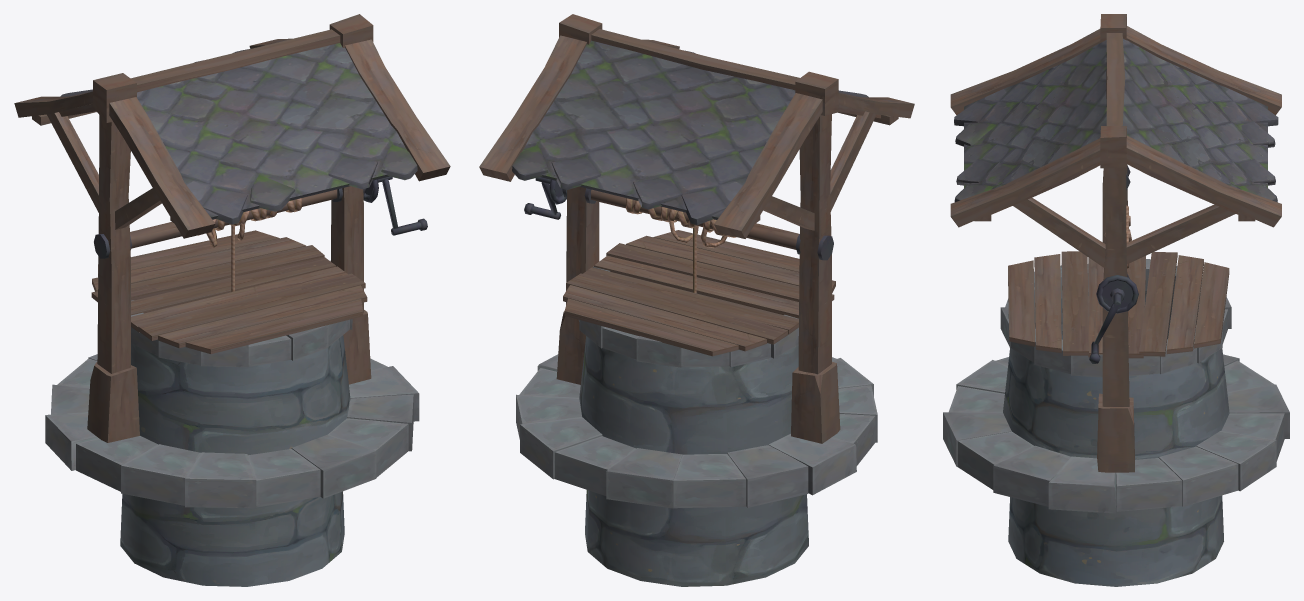
The model's file is Homeworld_Exterior_Ly_Decoration_Well_03_Lod0.fbx.
3 renders of one model, left to right at view 1: azimuth 30°, elevation 25°; view 2: azimuth 150°, elevation 25°; view 3: azimuth 270°, elevation 25°, orthographic. The views are drawn at different scales.
Visible parts, largest first — view 1: Area_ManorProps_Well01_Lod0; view 2: Area_ManorProps_Well01_Lod0; view 3: Area_ManorProps_Well01_Lod0.
Boxes of the visible parts, x1,y1,x2,y2 form: Area_ManorProps_Well01_Lod0: (14,14,450,586); Area_ManorProps_Well01_Lod0: (479,14,914,586); Area_ManorProps_Well01_Lod0: (943,14,1289,586).
Bounding box in the file's own units: 2.26 × 3.09 × 2.08.
